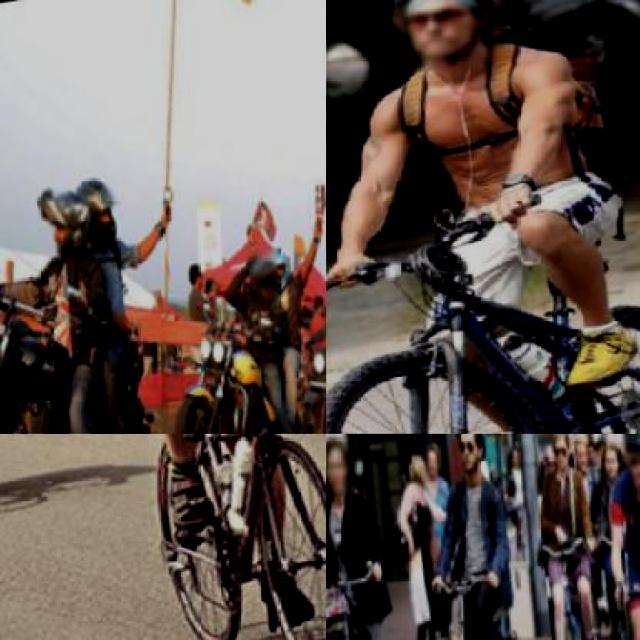With Helmet: (372, 0, 518, 82), (36, 178, 106, 264), (70, 168, 130, 246), (247, 243, 291, 309), (614, 434, 638, 489)
Without Helmet: (326, 434, 368, 503), (449, 434, 498, 480), (548, 434, 583, 475)
